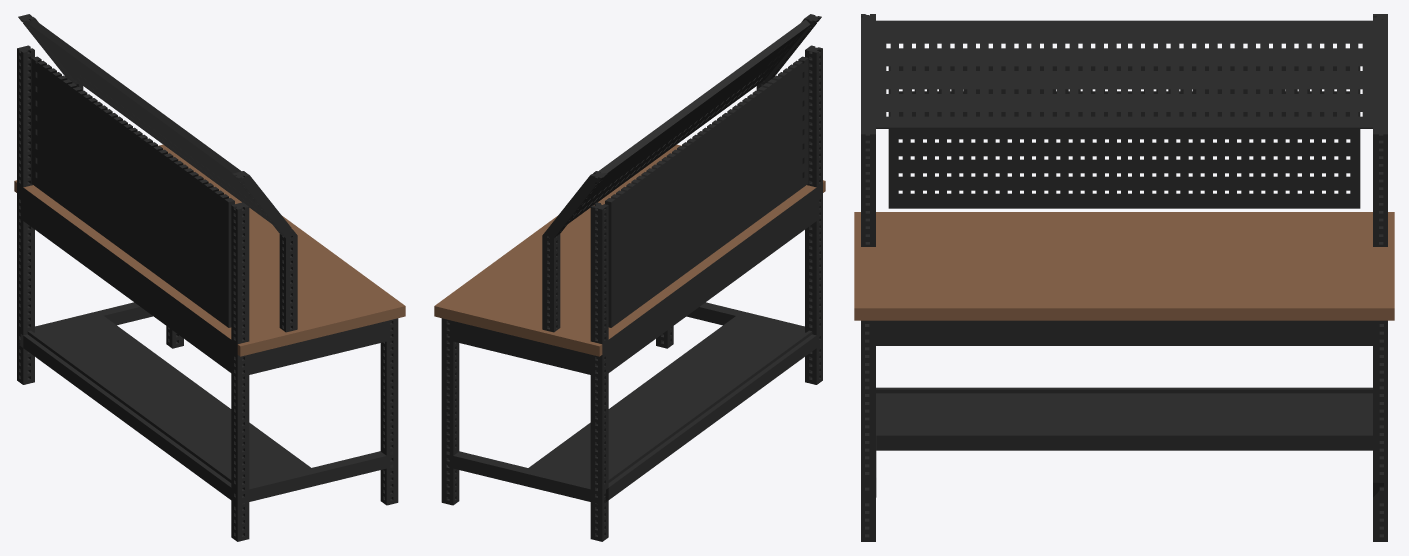
Rendered from MaintenanceWorkTable.glb.
The picture shows the model from 3 angles, left to right: view 1: azimuth 30°, elevation 25°; view 2: azimuth 150°, elevation 25°; view 3: azimuth 270°, elevation 25°; orthographic projection. The views are drawn at different scales.
Visible parts, largest first — view 1: Cube.004; view 2: Cube.004; view 3: Cube.004.
Part boxes in pixels (x1,y1,x2,y2): Cube.004: (14, 14, 405, 541); Cube.004: (434, 14, 825, 541); Cube.004: (854, 14, 1394, 541).
Size of what is drawn, in the model's own units: 0.7965 by 1.67 by 1.89.
